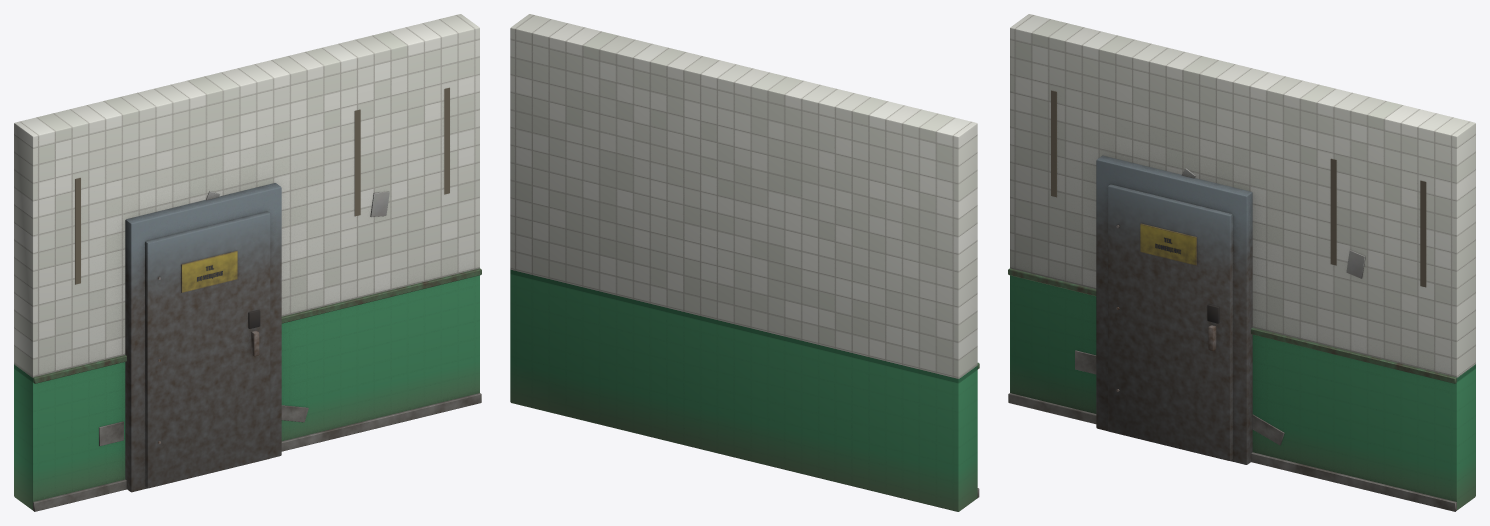
Rendered from g67_pz_wall_c.glb.
3 renders of one model, left to right at view 1: azimuth 30°, elevation 25°; view 2: azimuth 150°, elevation 25°; view 3: azimuth 330°, elevation 25°, orthographic.
Visible parts, largest first — view 1: g67_pz_wall_c; view 2: g67_pz_wall_c; view 3: g67_pz_wall_c.
Boxes of the visible parts, x1,y1,x2,y2 form: g67_pz_wall_c: (14,14,481,511); g67_pz_wall_c: (510,14,979,511); g67_pz_wall_c: (1008,14,1475,511).
Size of the model in its own units: 4 by 3.2 by 0.475.
1 material, 1 textured.
